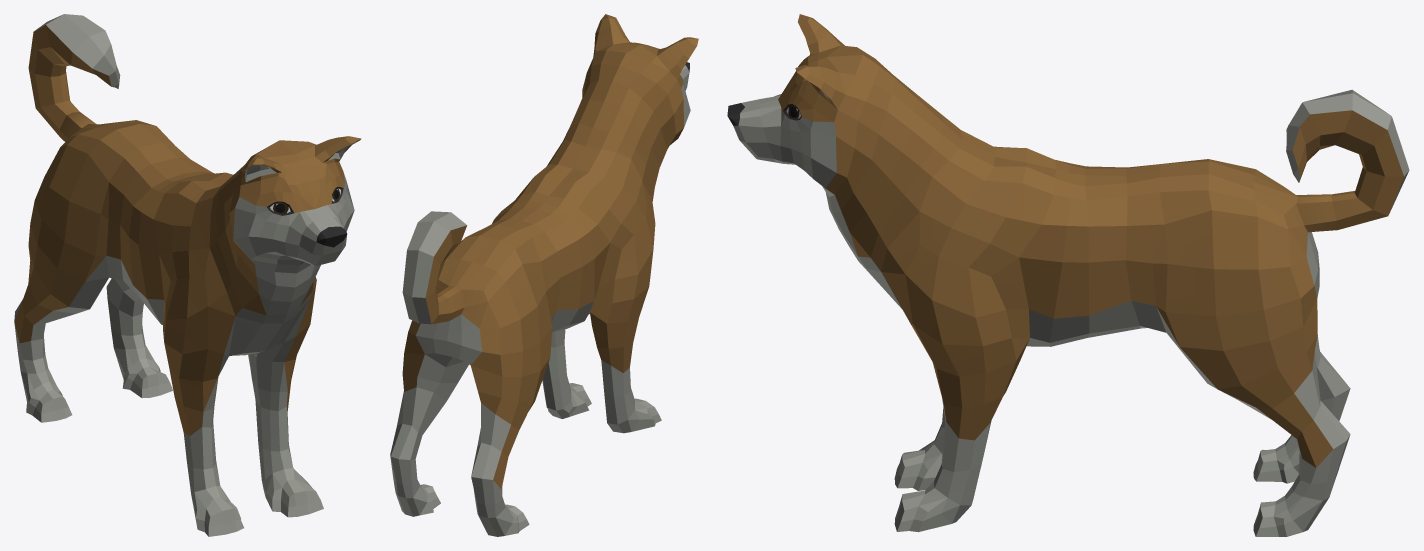
The model's file is dog.glb.
3 views of the same model, side by side, from view 1: azimuth 30°, elevation 25°; view 2: azimuth 150°, elevation 25°; view 3: azimuth 270°, elevation 25° (orthographic). The views are drawn at different scales.
Visible parts, largest first — view 1: baked; view 2: baked; view 3: baked.
Boxes of the visible parts, <box> form: baked: <box>14,14,361,536</box>; baked: <box>390,14,698,536</box>; baked: <box>727,14,1409,536</box>.
Bounding box in the file's own units: 1.07 × 3.09 × 4.16.
Materials: 1 (1 with a texture image).
